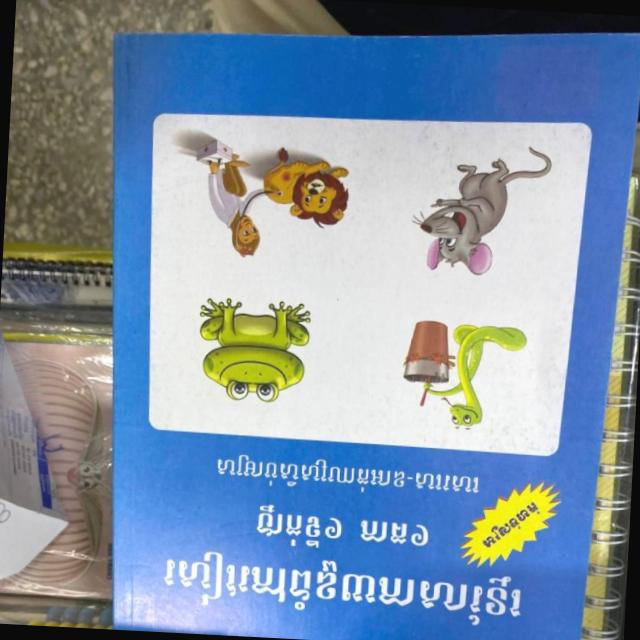1: (247, 503, 438, 561)
Yolov11kh: (154, 544, 536, 640), (202, 443, 488, 505), (474, 487, 553, 560)
